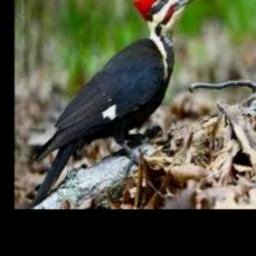Woodpecker: (26, 0, 205, 209)
